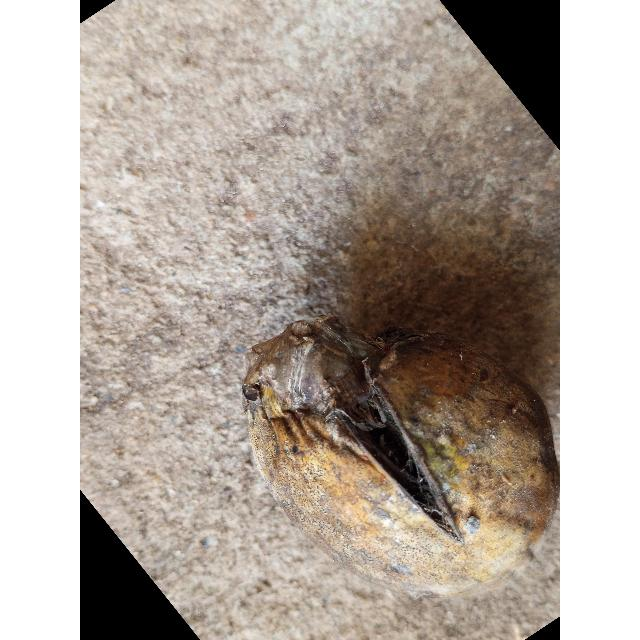damaged: (242, 315, 559, 595)
